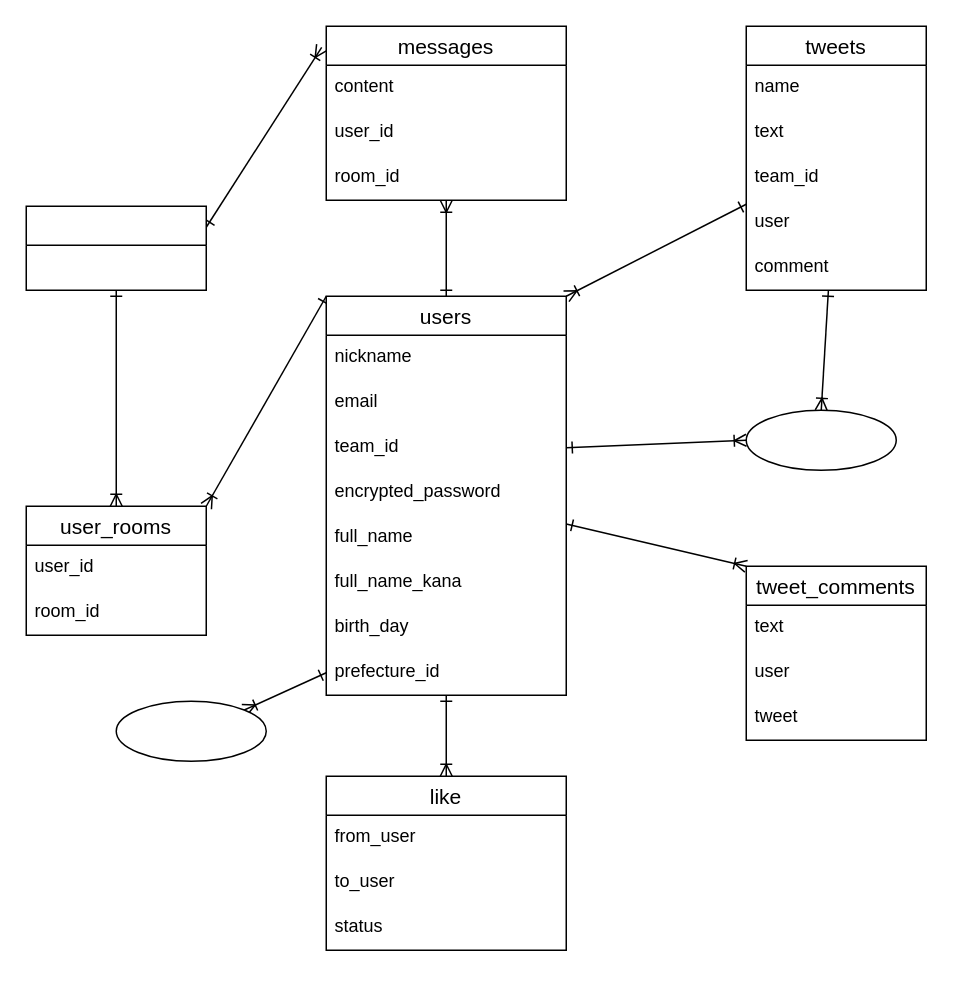
Image size: 953x981. Some labels were removed from this diagram. The shapes that lost their labels are listed below. From the top down, each one's centre as x and y in pixels, then its label:
At (x=115, y=247): "rooms".
At (x=820, y=439): "team".
At (x=190, y=730): "prefecture".
